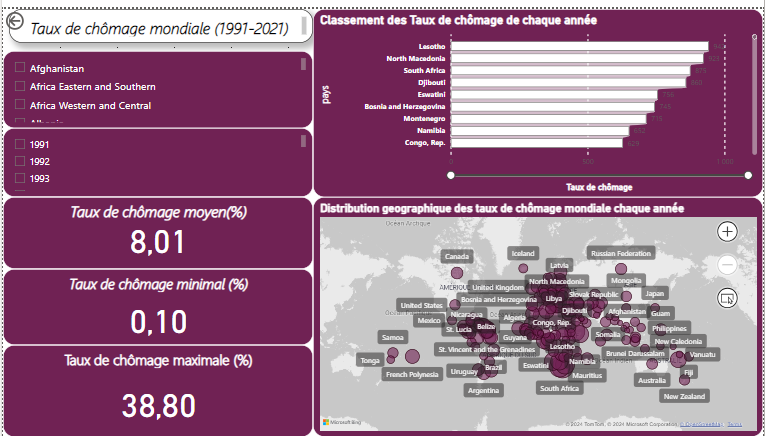

The dashboard page shown, as its layout file describes it:
{"tool":"powerbi","page":{"name":"Page 1","canvas":[1280,720],"ordinal":0},"visuals":[{"type":"textbox","box":[10.1,0,512,57.3],"z":0},{"type":"slicer","fields":{"Values":["unemployment.Country Name"]},"box":[0,70.7,522.1,129.7],"z":1},{"type":"slicer","fields":{"Values":["unemployment.Annéé"]},"box":[0,200.4,522.1,116.2],"z":2},{"type":"card","title":"Taux de chômage moyen(%)","fields":{"Values":["Avg(unemployment.Taux de chommage)"]},"box":[0,316.6,522.1,121.3],"z":3},{"type":"actionButton","box":[0,0,100,40],"z":5},{"type":"card","title":"Taux de chômage minimal (%)","fields":{"Values":["Min(unemployment.Taux de chommage)"]},"box":[0,437.9,522.1,128],"z":6},{"type":"card","title":"Taux de chômage maximale (%)","fields":{"Values":["Max(unemployment.Taux de chommage)"]},"box":[0,565.9,522.1,154.9],"z":7},{"type":"barChart","title":"Classement des Taux de chômage de chaque année","fields":{"Category":["unemployment.Country Name"],"Y":["Sum(unemployment.Taux de chommage)"]},"box":[522.1,0,757.9,316.6],"z":8},{"type":"map","title":"Distribution geographique des taux de chômage mondiale chaque année","fields":{"Category":["unemployment.Country Name"],"Size":["Sum(unemployment.Taux de chommage)"]},"box":[522.1,316.6,757.9,404.2],"z":9}]}

Visuals, with their boxes in screenshot pixels (x1, y1, x2, y2), scaled from the page's 1280x720 canvas onto the 765x436 screenshot:
textbox: (x1=6, y1=0, x2=312, y2=35)
slicer - unemployment.Country Name: (x1=0, y1=43, x2=312, y2=121)
slicer - unemployment.Annéé: (x1=0, y1=121, x2=312, y2=192)
"Taux de chômage moyen(%)" card: (x1=0, y1=192, x2=312, y2=265)
actionButton: (x1=0, y1=0, x2=60, y2=24)
"Taux de chômage minimal (%)" card: (x1=0, y1=265, x2=312, y2=343)
"Taux de chômage maximale (%)" card: (x1=0, y1=343, x2=312, y2=435)
"Classement des Taux de chômage de chaque année" barChart: (x1=312, y1=0, x2=764, y2=192)
"Distribution geographique des taux de chômage mondiale chaque année" map: (x1=312, y1=192, x2=764, y2=435)
